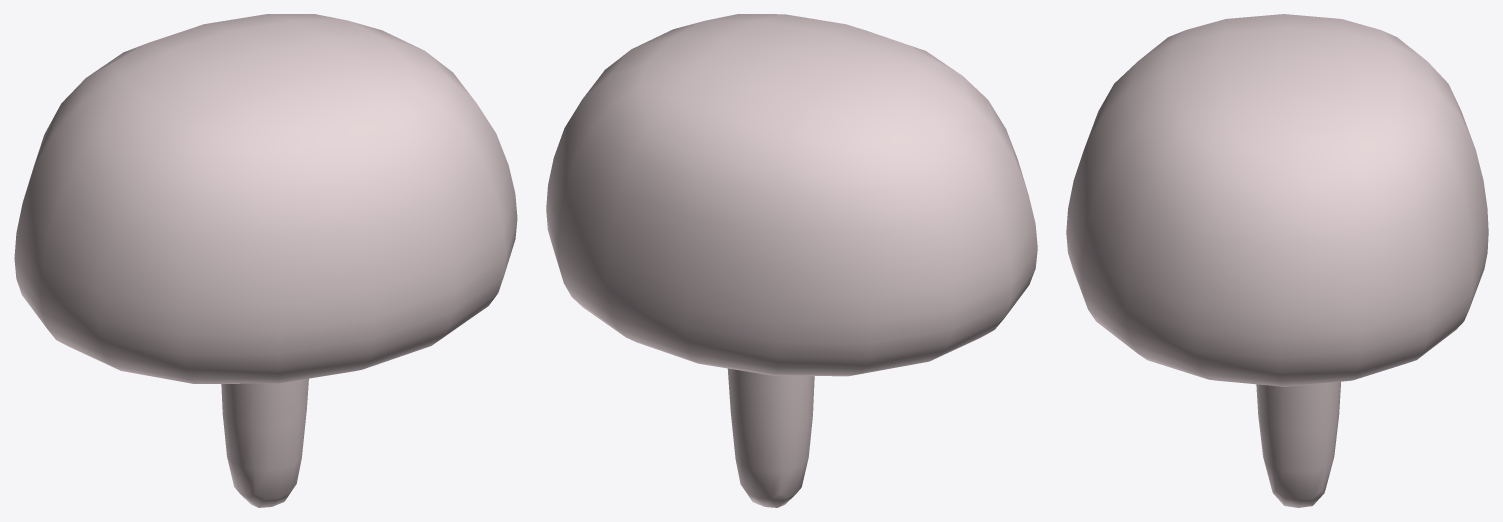
File: champignon_smooth.fbx
The picture shows the model from 3 angles, left to right: view 1: azimuth 30°, elevation 25°; view 2: azimuth 150°, elevation 25°; view 3: azimuth 270°, elevation 25°; orthographic projection. The views are drawn at different scales.
Visible parts, largest first — view 1: Champignon_smooth; view 2: Champignon_smooth; view 3: Champignon_smooth.
Boxes of the visible parts, x1,y1,x2,y2 form: Champignon_smooth: (14, 14, 517, 507); Champignon_smooth: (546, 14, 1037, 507); Champignon_smooth: (1066, 14, 1488, 507).
Size of the model in its own units: 0.5488 by 0.5351 by 0.4597.
